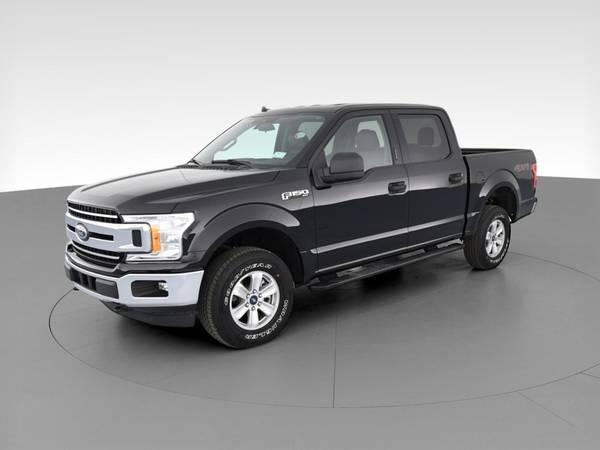Front_Bumper: (64, 242, 211, 324)
Front_Fender: (173, 164, 321, 279)
Front_Left_Door: (315, 169, 414, 280)
Front_Left_Window: (311, 114, 407, 187)
Front_Windshield: (186, 112, 336, 168)
Grille: (64, 198, 150, 266)
Hood: (68, 165, 281, 215)
Left_Headlight: (121, 210, 197, 262)
Rear_Fender: (466, 149, 538, 237)
Rear_Left_Door: (409, 159, 472, 255)
Rear_Left_Window: (393, 114, 458, 168)
Roof: (248, 103, 464, 167)
Wheel: (205, 248, 298, 349), (466, 205, 516, 268)
